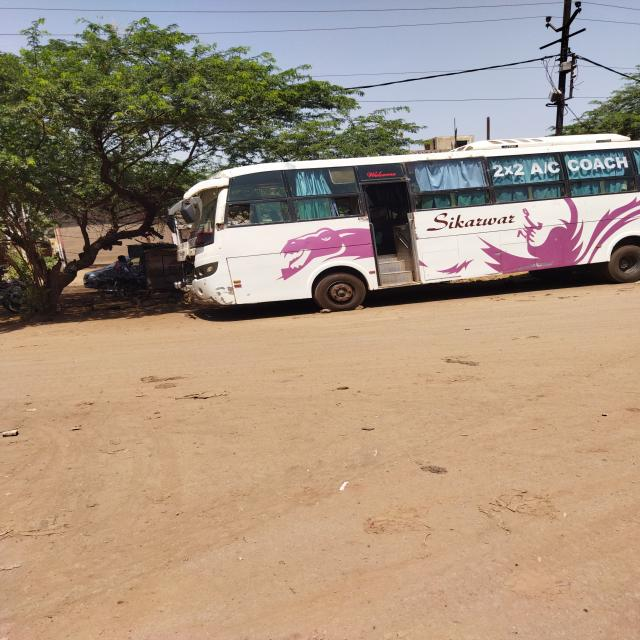Bus: (162, 125, 640, 317)
Car: (73, 248, 161, 292)
